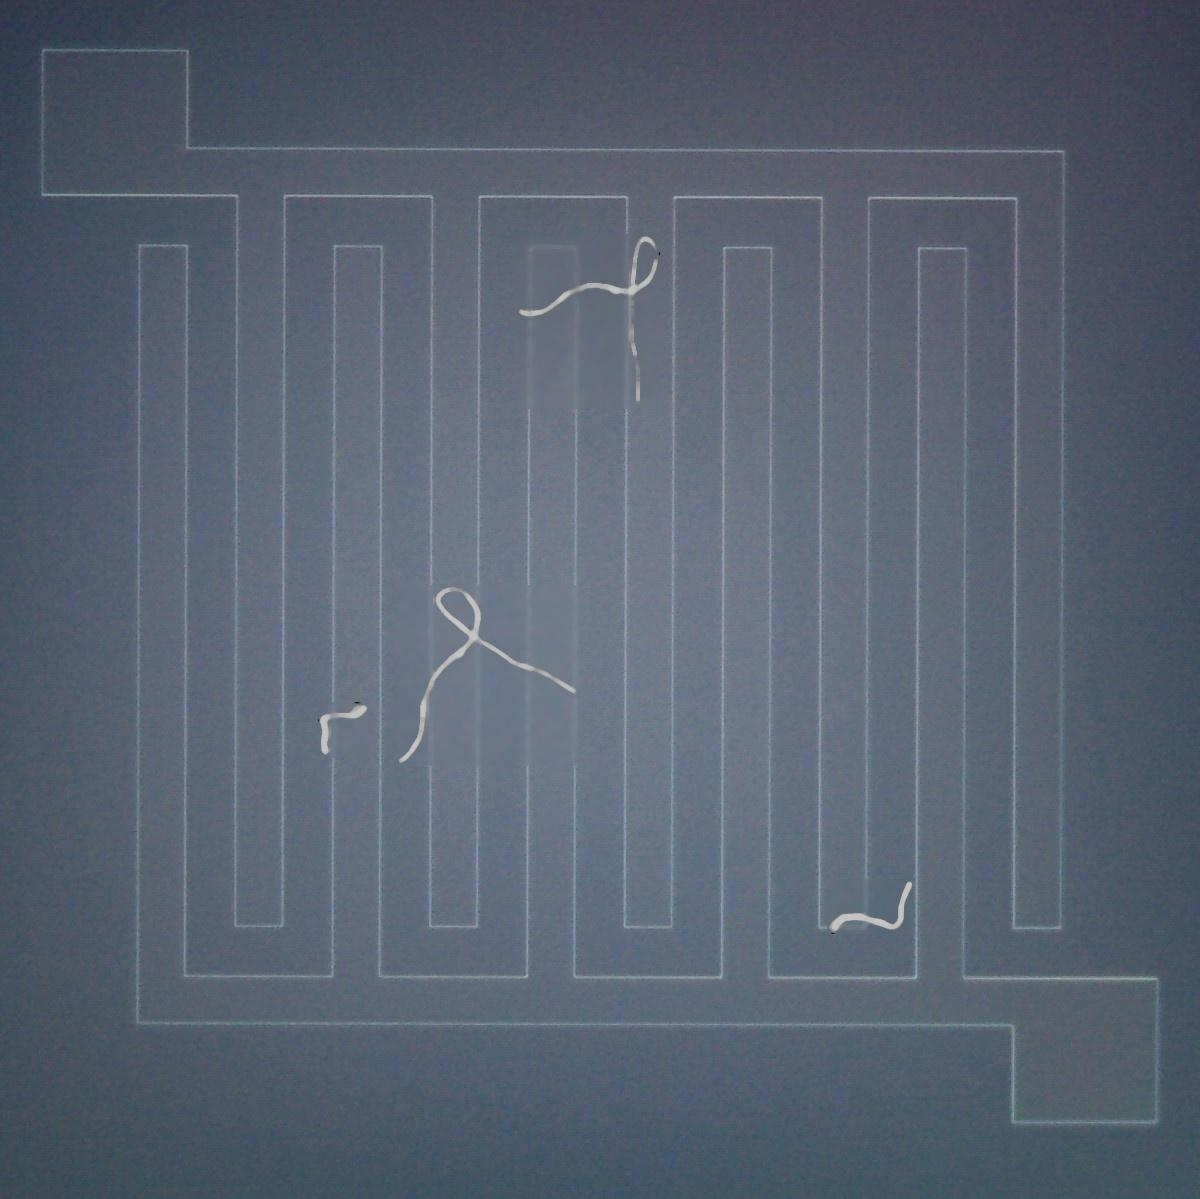foreign: (389, 575, 584, 772), (515, 231, 668, 414), (825, 875, 923, 950), (311, 697, 383, 761)
